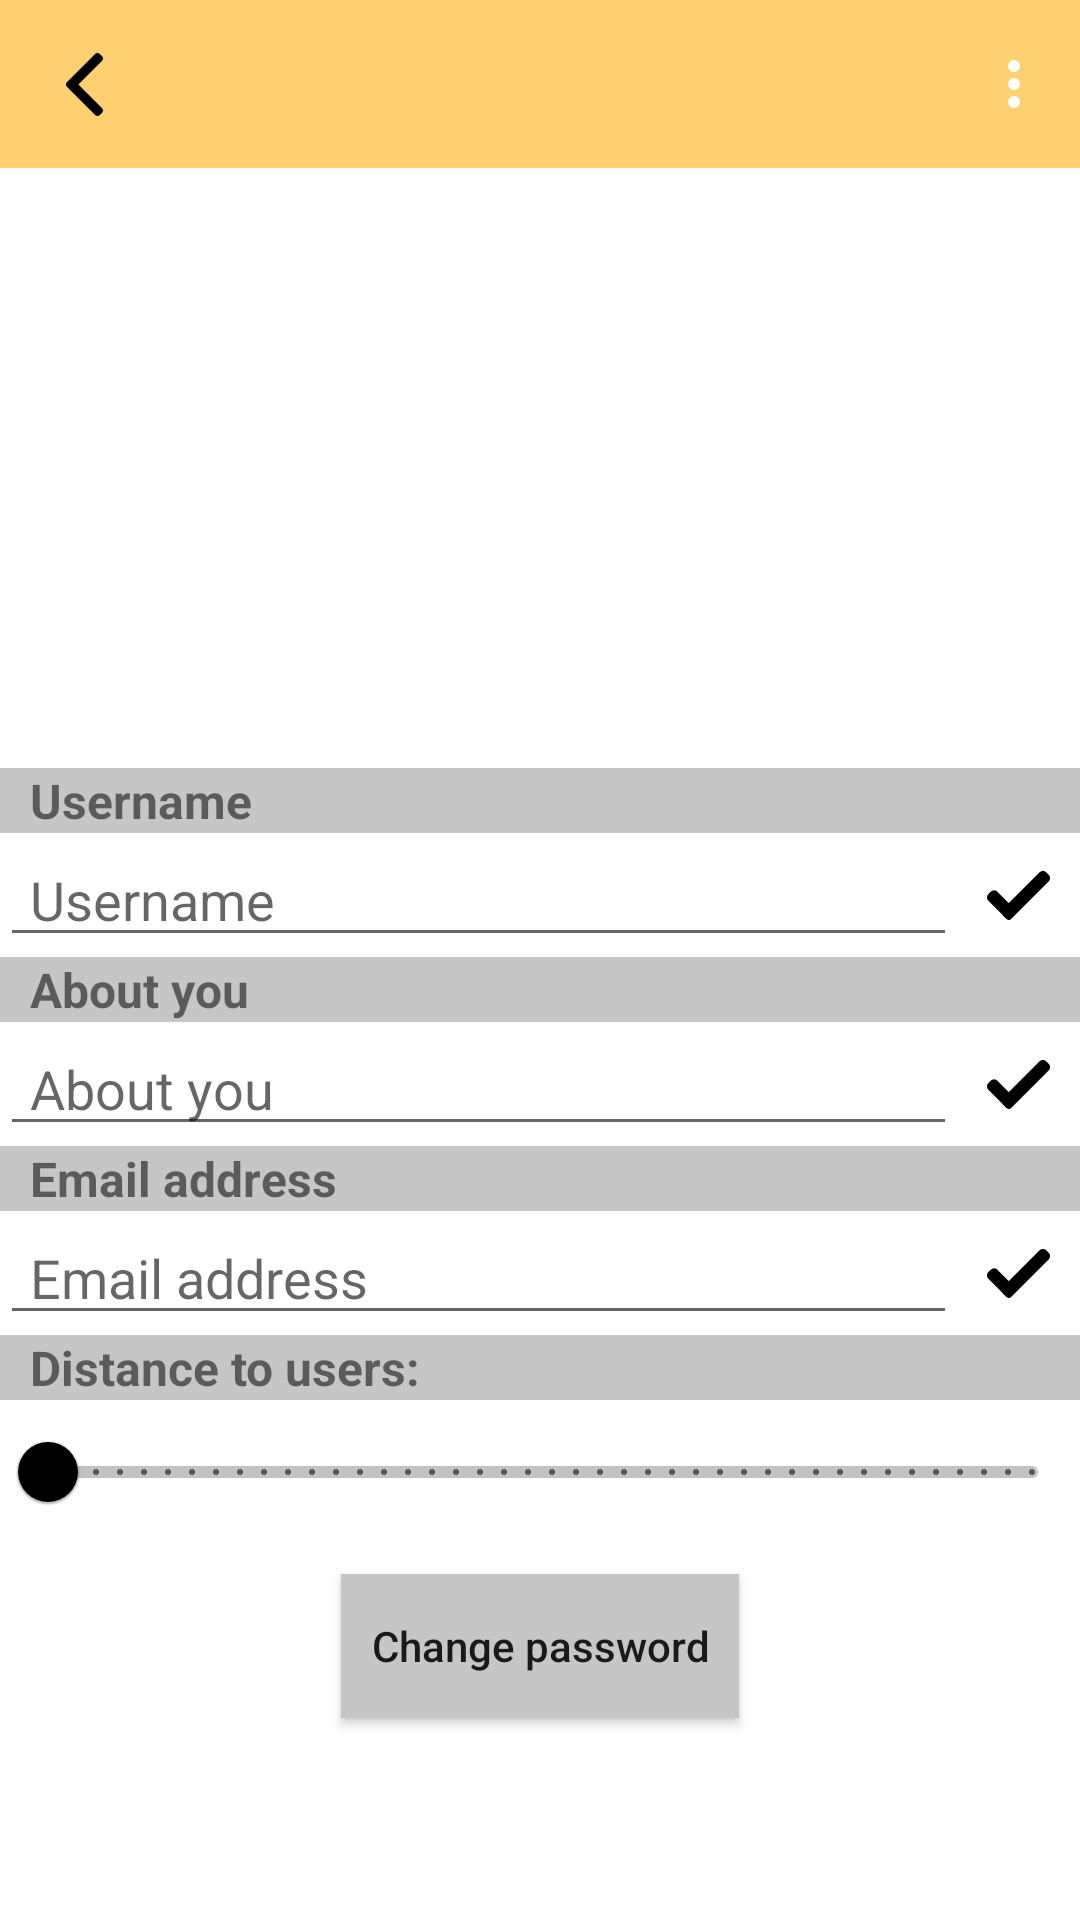

Icons on this 1080 × 1920 Android screen, each with the point to tap as (x=x, y=y):
check: (x=1018, y=895), (x=1018, y=1084), (x=1018, y=1273)
